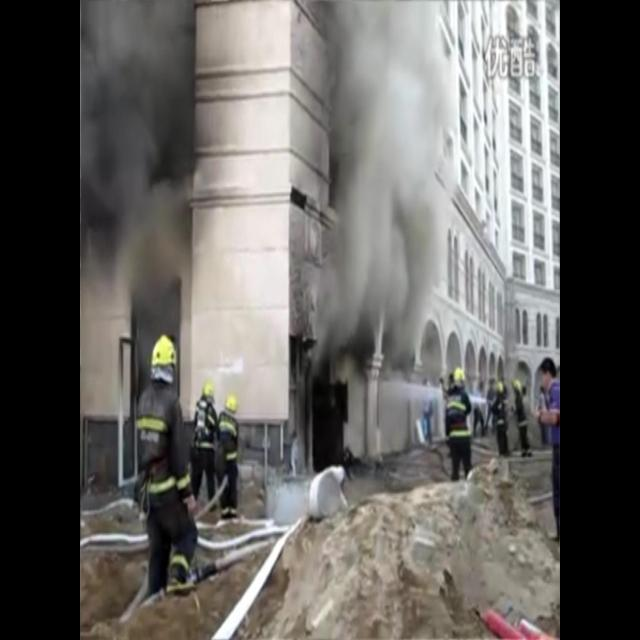Smoke: (303, 0, 463, 365), (80, 5, 218, 332)
